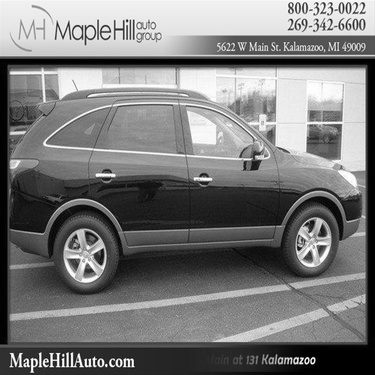car: (1, 83, 363, 299), (281, 110, 344, 151)
